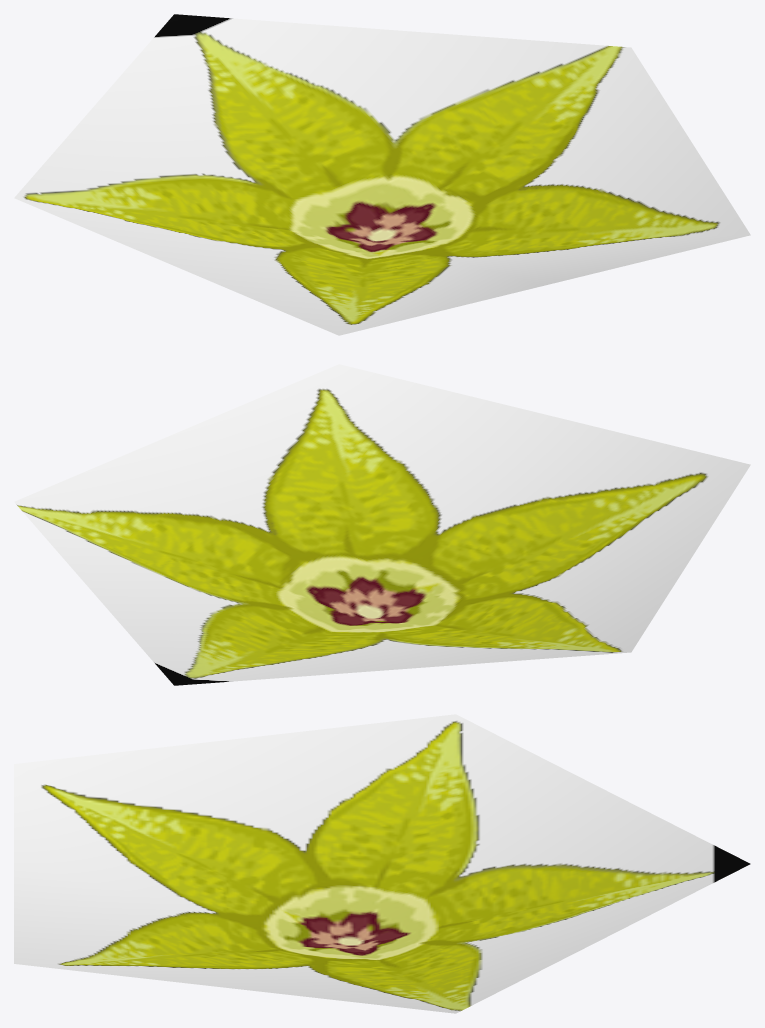
The model's file is SM_FleurSpline_07.fbx.
3 renders of one model, top to bottom at view 1: azimuth 30°, elevation 25°; view 2: azimuth 150°, elevation 25°; view 3: azimuth 270°, elevation 25°, orthographic.
Visible parts, largest first — view 1: SM_FleurSpline_07; view 2: SM_FleurSpline_07; view 3: SM_FleurSpline_07.
Boxes of the visible parts, bbox=[...] form: SM_FleurSpline_07: bbox=[14, 14, 750, 335]; SM_FleurSpline_07: bbox=[14, 364, 750, 685]; SM_FleurSpline_07: bbox=[14, 714, 750, 1013].
Size of the model in its own units: 25.14 by 3.04 by 26.15.
Materials: 1 (1 with a texture image).
